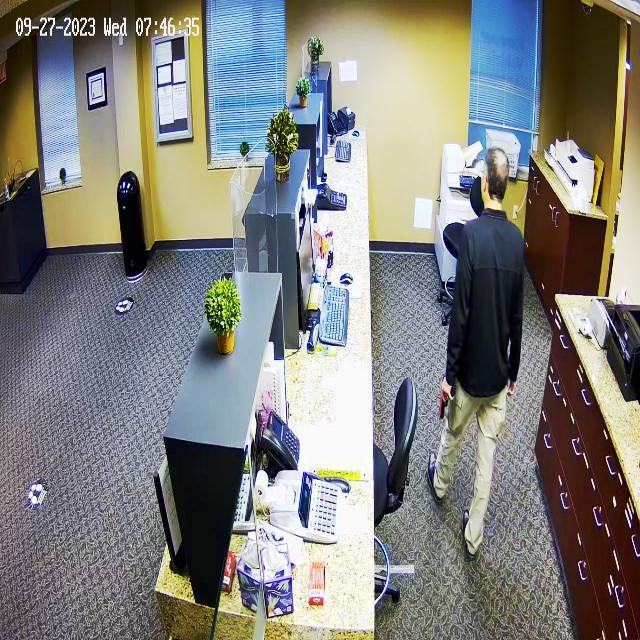Gun: (433, 374, 465, 434)
